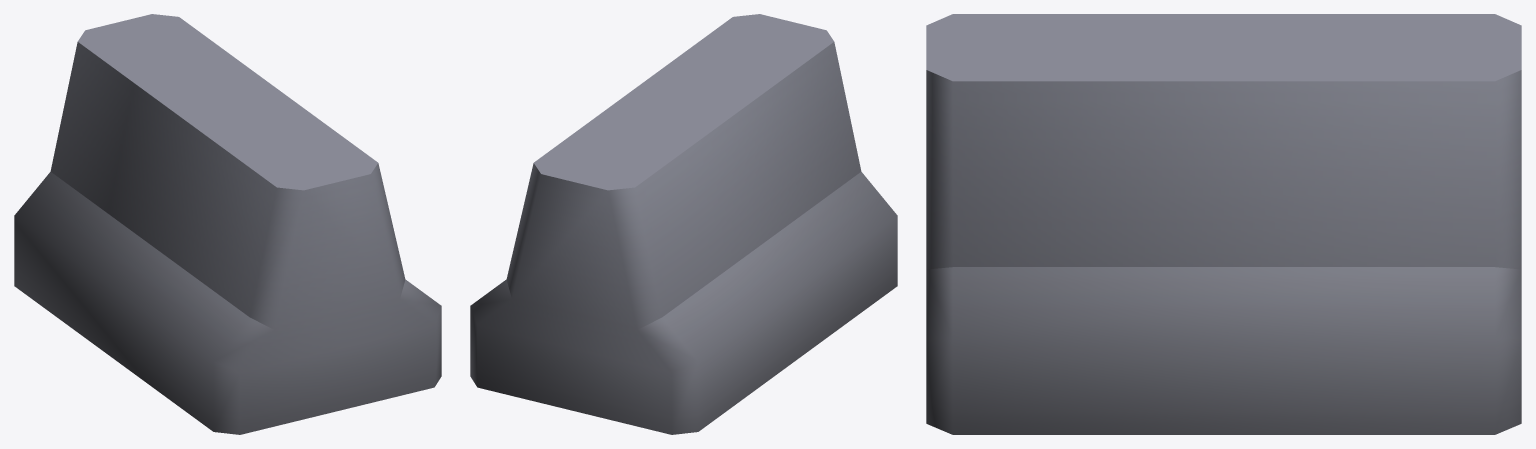
File: construction_barrier.glb
3 views of the same model, side by side, from view 1: azimuth 30°, elevation 25°; view 2: azimuth 150°, elevation 25°; view 3: azimuth 270°, elevation 25° (orthographic). The views are drawn at different scales.
Visible parts, largest first — view 1: construction-barrier; view 2: construction-barrier; view 3: construction-barrier.
Boxes of the visible parts, x1,y1,x2,y2 form: construction-barrier: (14,14,441,434); construction-barrier: (470,14,897,434); construction-barrier: (926,14,1521,434).
Size of the model in its own units: 1.08 by 1.04 by 1.8.
Materials: 1 (1 with a texture image).
